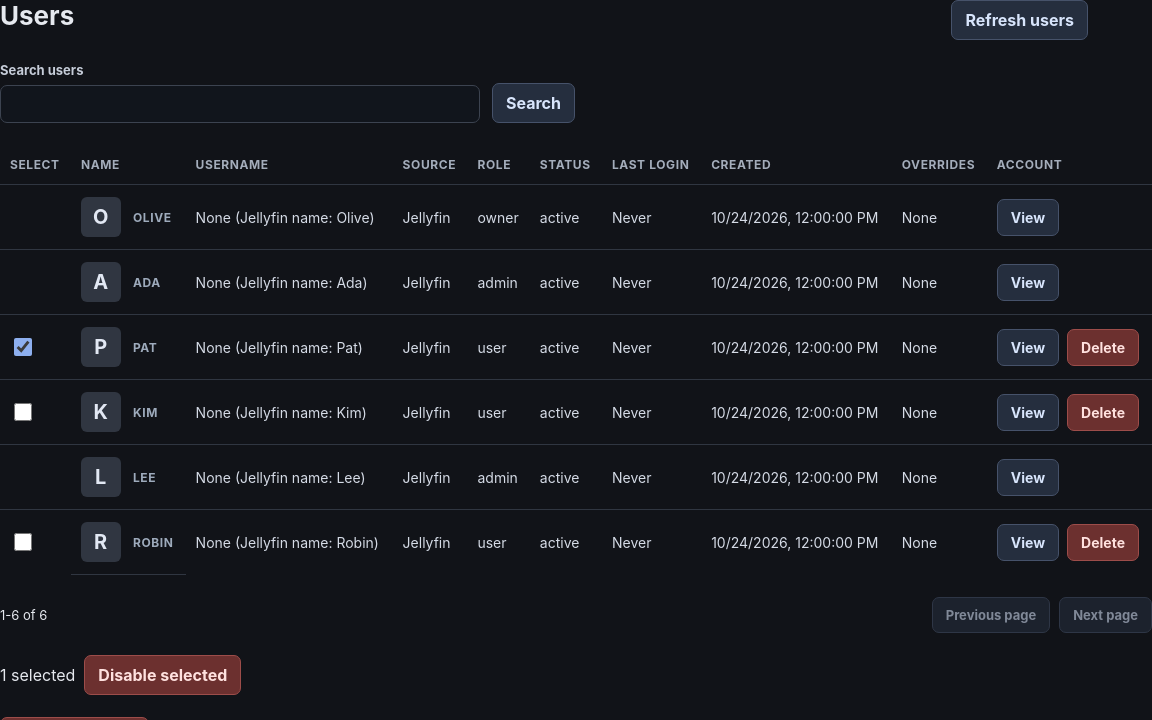
it: Account deletion entry points › reports an unknown outcome for a target Editarr answers busy, and rereads Users
The image size is (1152, 720).
Earlier steps of the test are not shown.
Click the checkbox named "Select Kim" at x=23, y=412, box [14,403,32,421]
(page scrolled)
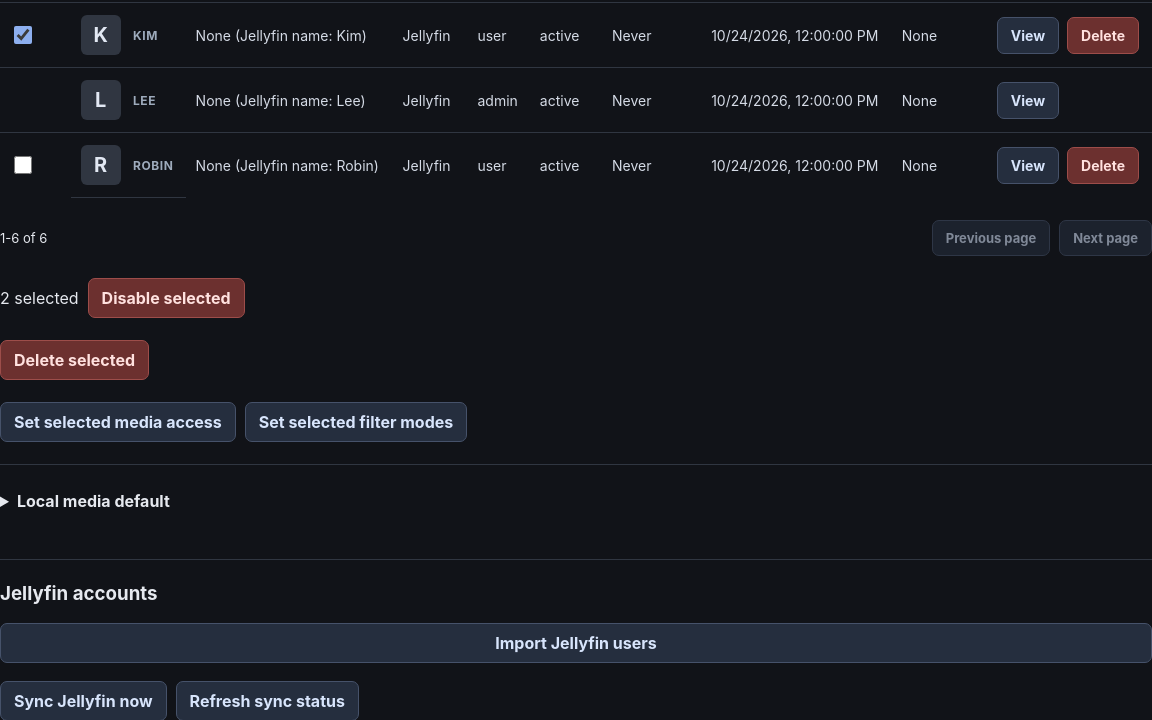
Click the button "Delete selected" at x=75, y=360, box [0,340,149,380]
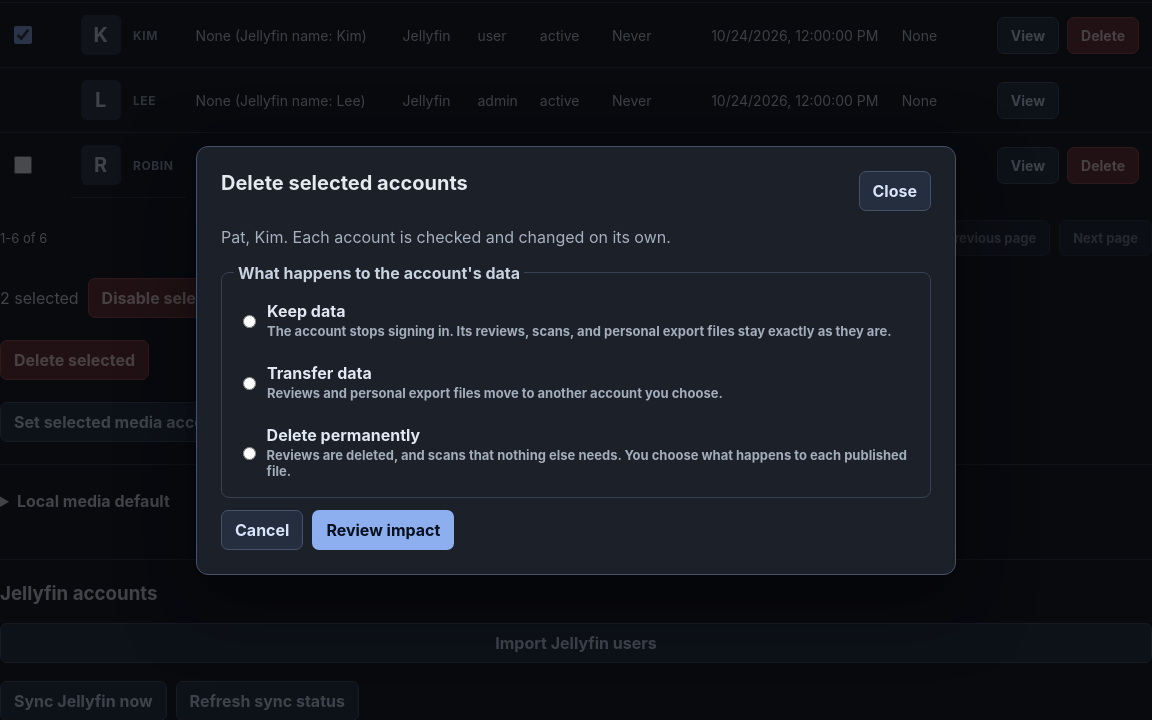
Click the radio button labelled "Keep data" at x=250, y=321, box [243,314,256,328]
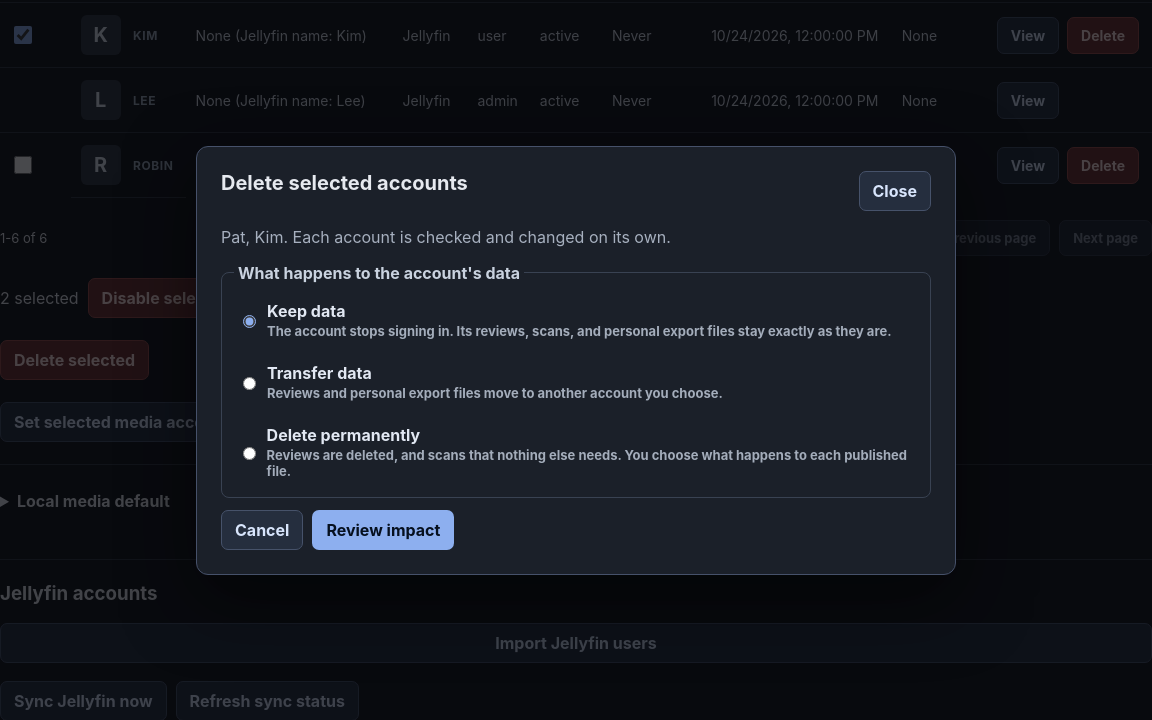
Click the button "Review impact" at x=383, y=530, box [312,510,454,550]
(page scrolled)
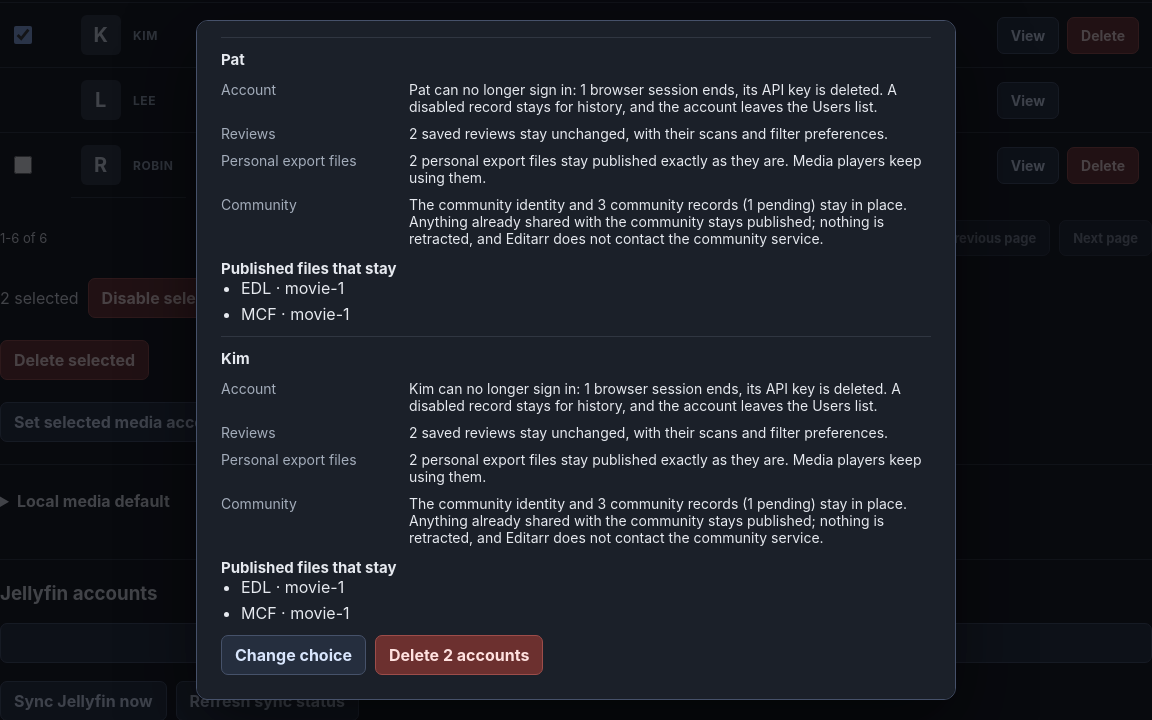
Click the button "Delete 2 accounts" at x=459, y=655, box [375,635,543,675]
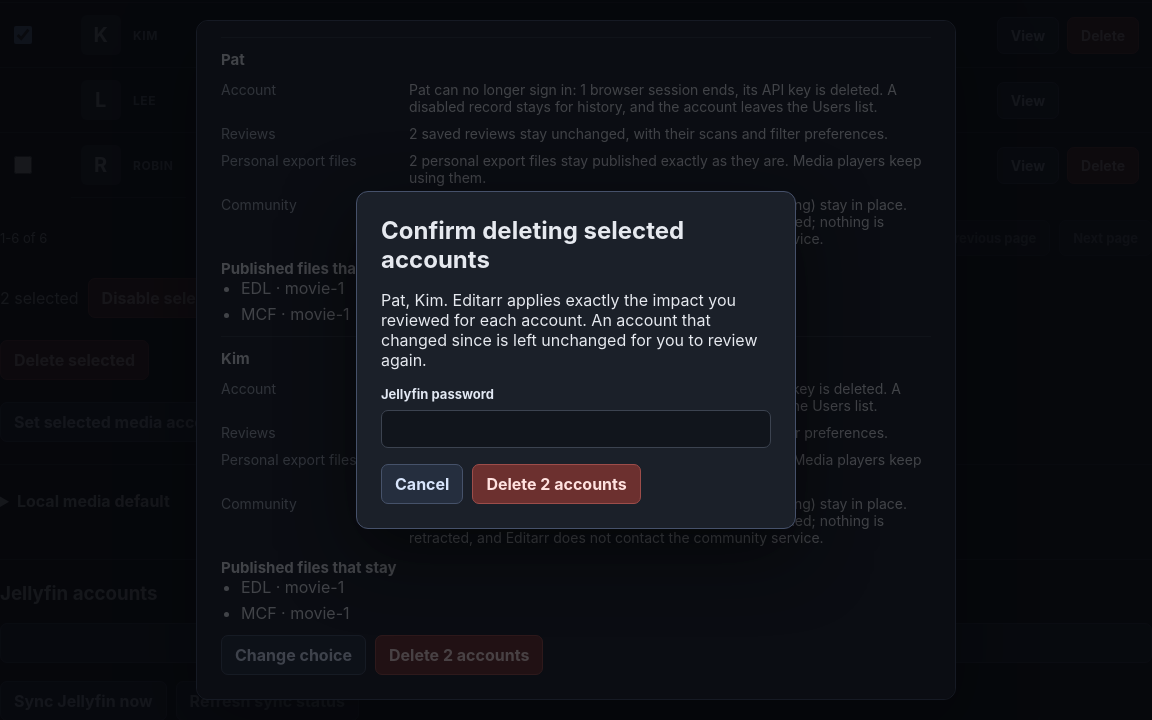
Type "admin synthetic password" into the password field labelled "Jellyfin password" at x=576, y=429, box [381,410,771,448]
Click the button "Delete 2 accounts" at x=557, y=484, box [472,464,641,504]
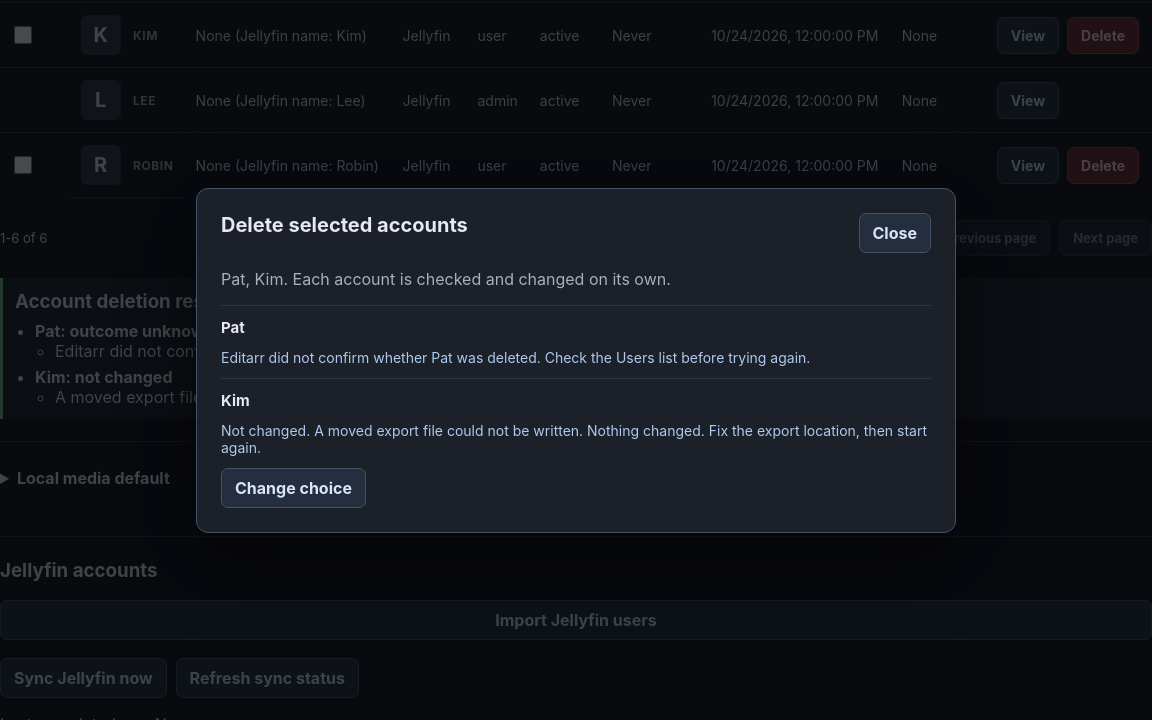
Expected: the element named "Deletion of Pat" shows "Editarr did not confirm whether Pat was deleted.", [221,348,810,366]
Expected: the element named "Deletion of Kim" shows "Not changed. A moved export file could not be written.", [221,378,931,456]
Expected: the element "Account deletion results" shows "Pat: outcome unknown", [0,278,1151,419]
